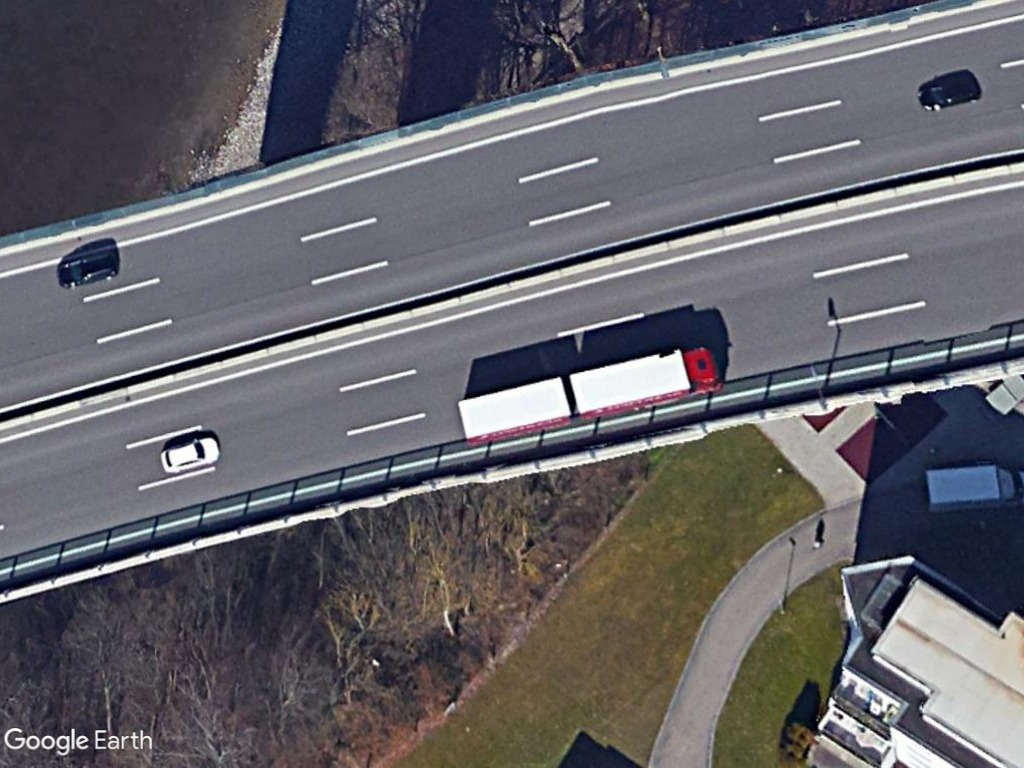car: (158, 434, 223, 476)
truck: (564, 346, 723, 421)
